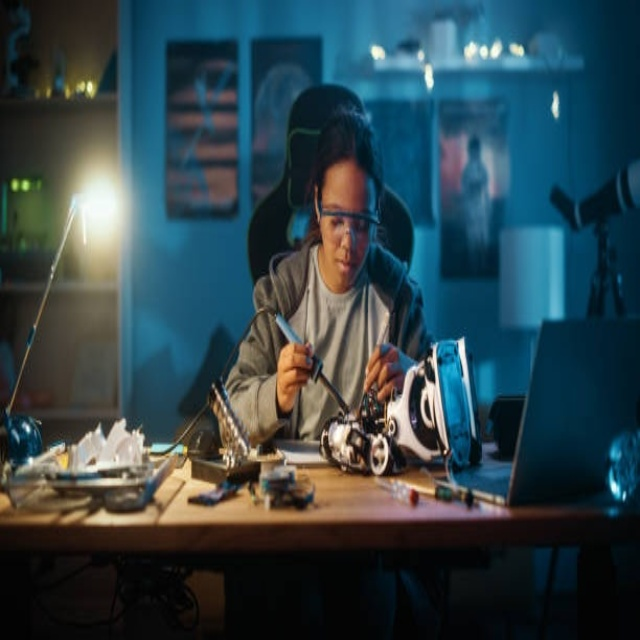Gafas: (316, 201, 382, 247)
Sin_guantes: (276, 342, 319, 407), (361, 341, 405, 403)
Sin_mascara: (330, 251, 353, 287)
